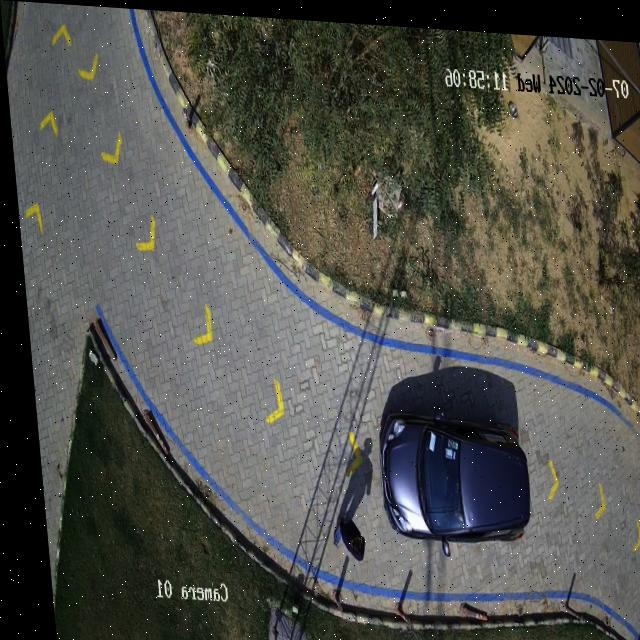car: (372, 401, 522, 550)
